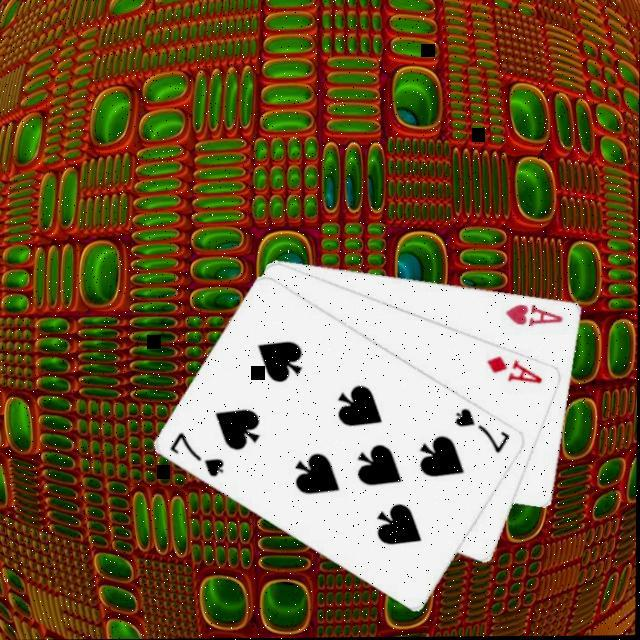7S: (454, 406, 516, 458), (169, 430, 231, 482)
AD: (486, 355, 548, 389)
AH: (505, 302, 569, 332)
